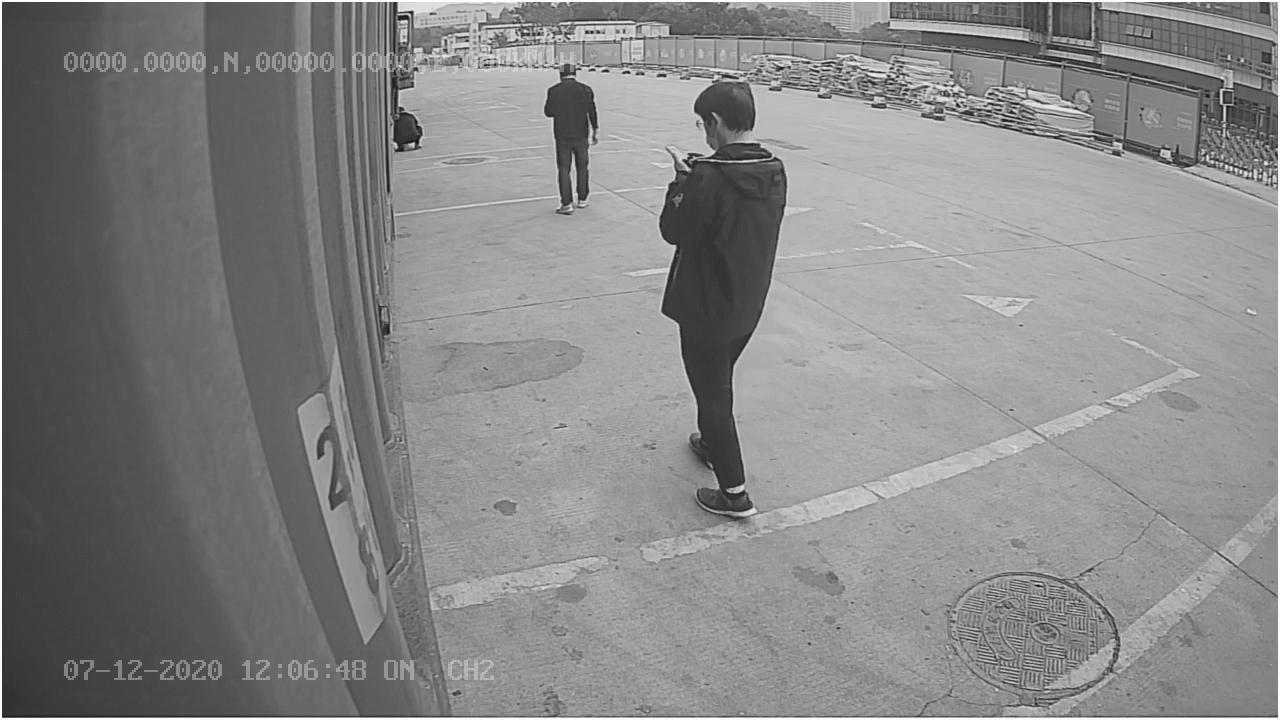person: (654, 69, 793, 520)
